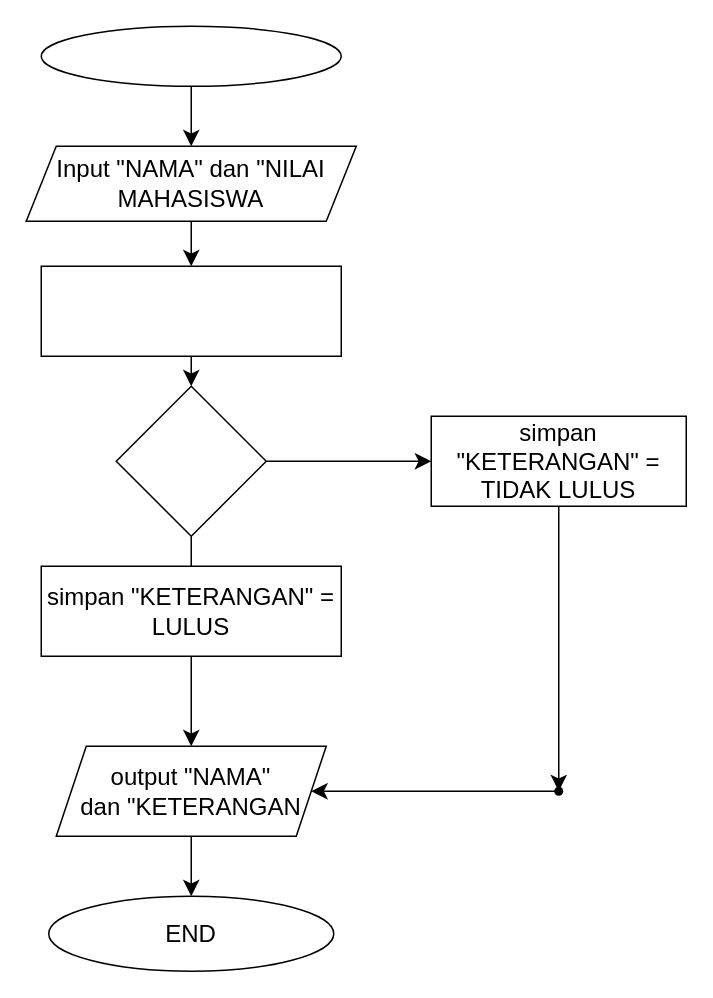
This 713x998 diagram has some shape labels left out. Each missing label, with the centre of its shape:
jika "NILAI" >=60: (x=190, y=460)
simpan "NAMA" dan "NILAI MAHASISWA": (x=190, y=310)
STATR: (x=190, y=55)
